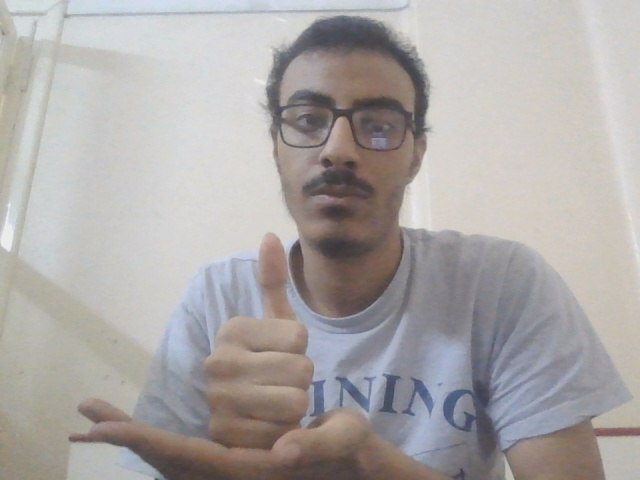Help: (67, 228, 375, 480)
